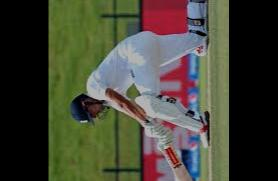batsman: (64, 0, 229, 173)
